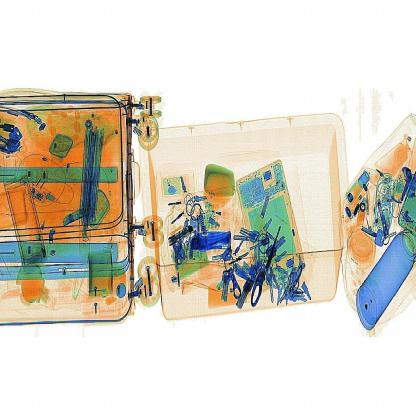knife: (185, 225, 242, 254)
